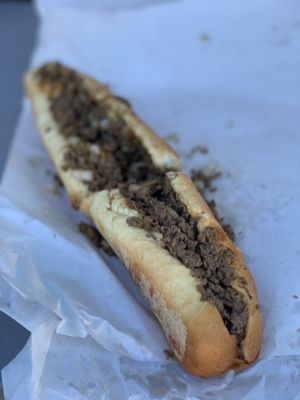sandwich: (24, 63, 258, 390)
